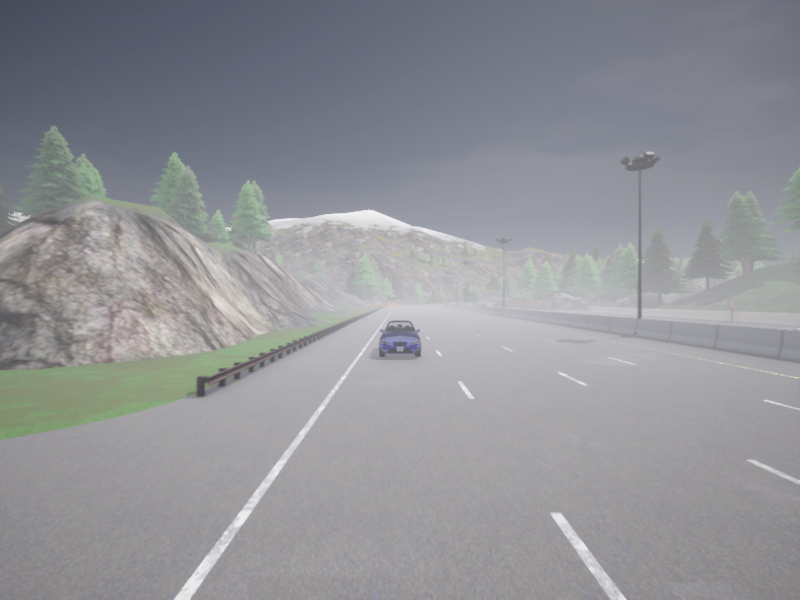vehicle: (379, 320, 420, 357), (477, 303, 485, 305), (473, 302, 478, 304), (474, 302, 477, 305), (456, 302, 459, 303)
